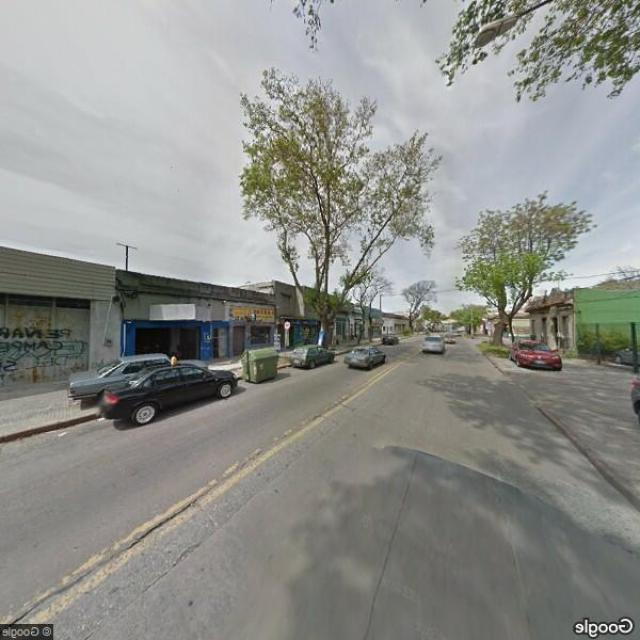garbage container: (234, 339, 284, 388)
